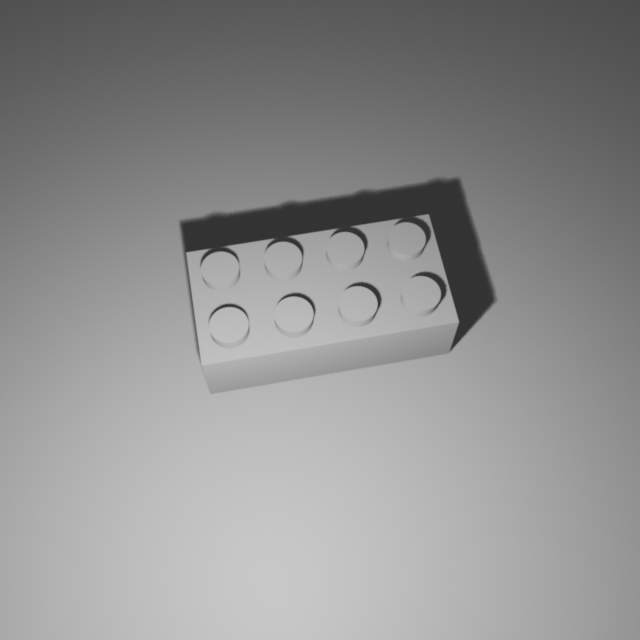lego_2x4: (185, 208, 461, 394)
